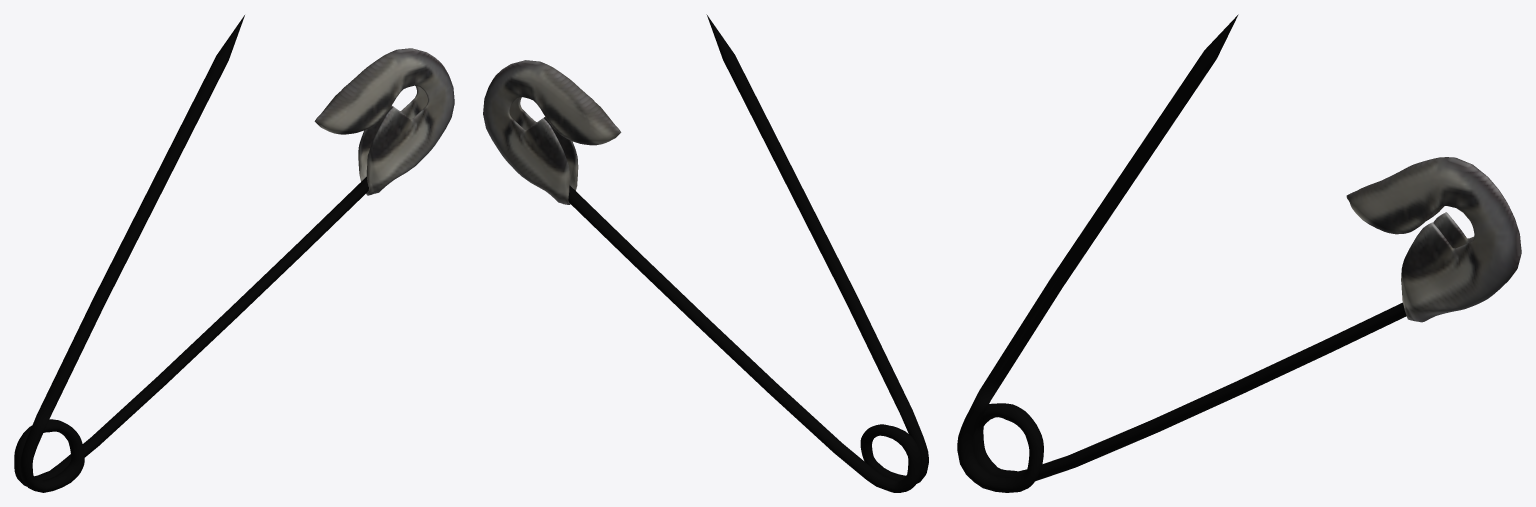
File: safety_clip.glb
The picture shows the model from 3 angles, left to right: view 1: azimuth 30°, elevation 25°; view 2: azimuth 150°, elevation 25°; view 3: azimuth 330°, elevation 25°; orthographic projection. The views are drawn at different scales.
Visible parts, largest first — view 1: Material_001-material, Material-material; view 2: Material_001-material, Material-material; view 3: Material_001-material, Material-material.
Boxes of the visible parts, x1=… form: Material_001-material: x1=14, y1=15, x2=368, y2=492; Material-material: x1=314, y1=48, x2=454, y2=195; Material_001-material: x1=568, y1=14, x2=928, y2=492; Material-material: x1=483, y1=60, x2=621, y2=204; Material_001-material: x1=957, y1=14, x2=1406, y2=492; Material-material: x1=1346, y1=157, x2=1521, y2=322.
Bounding box in the file's own units: 4.85 × 4.52 × 0.3806.
2 materials, 1 textured.
